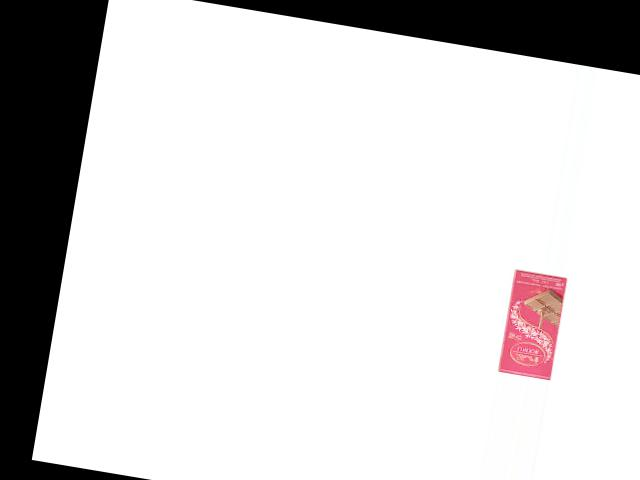chocolate: (495, 269, 572, 380)
